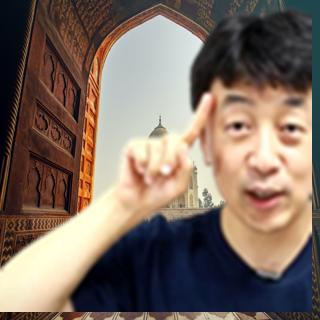IRRITATED: (113, 89, 217, 222)
